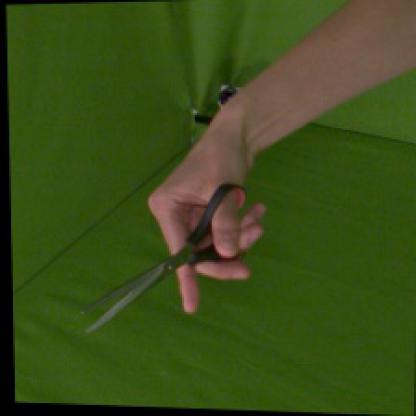Hand: (146, 107, 266, 316)
